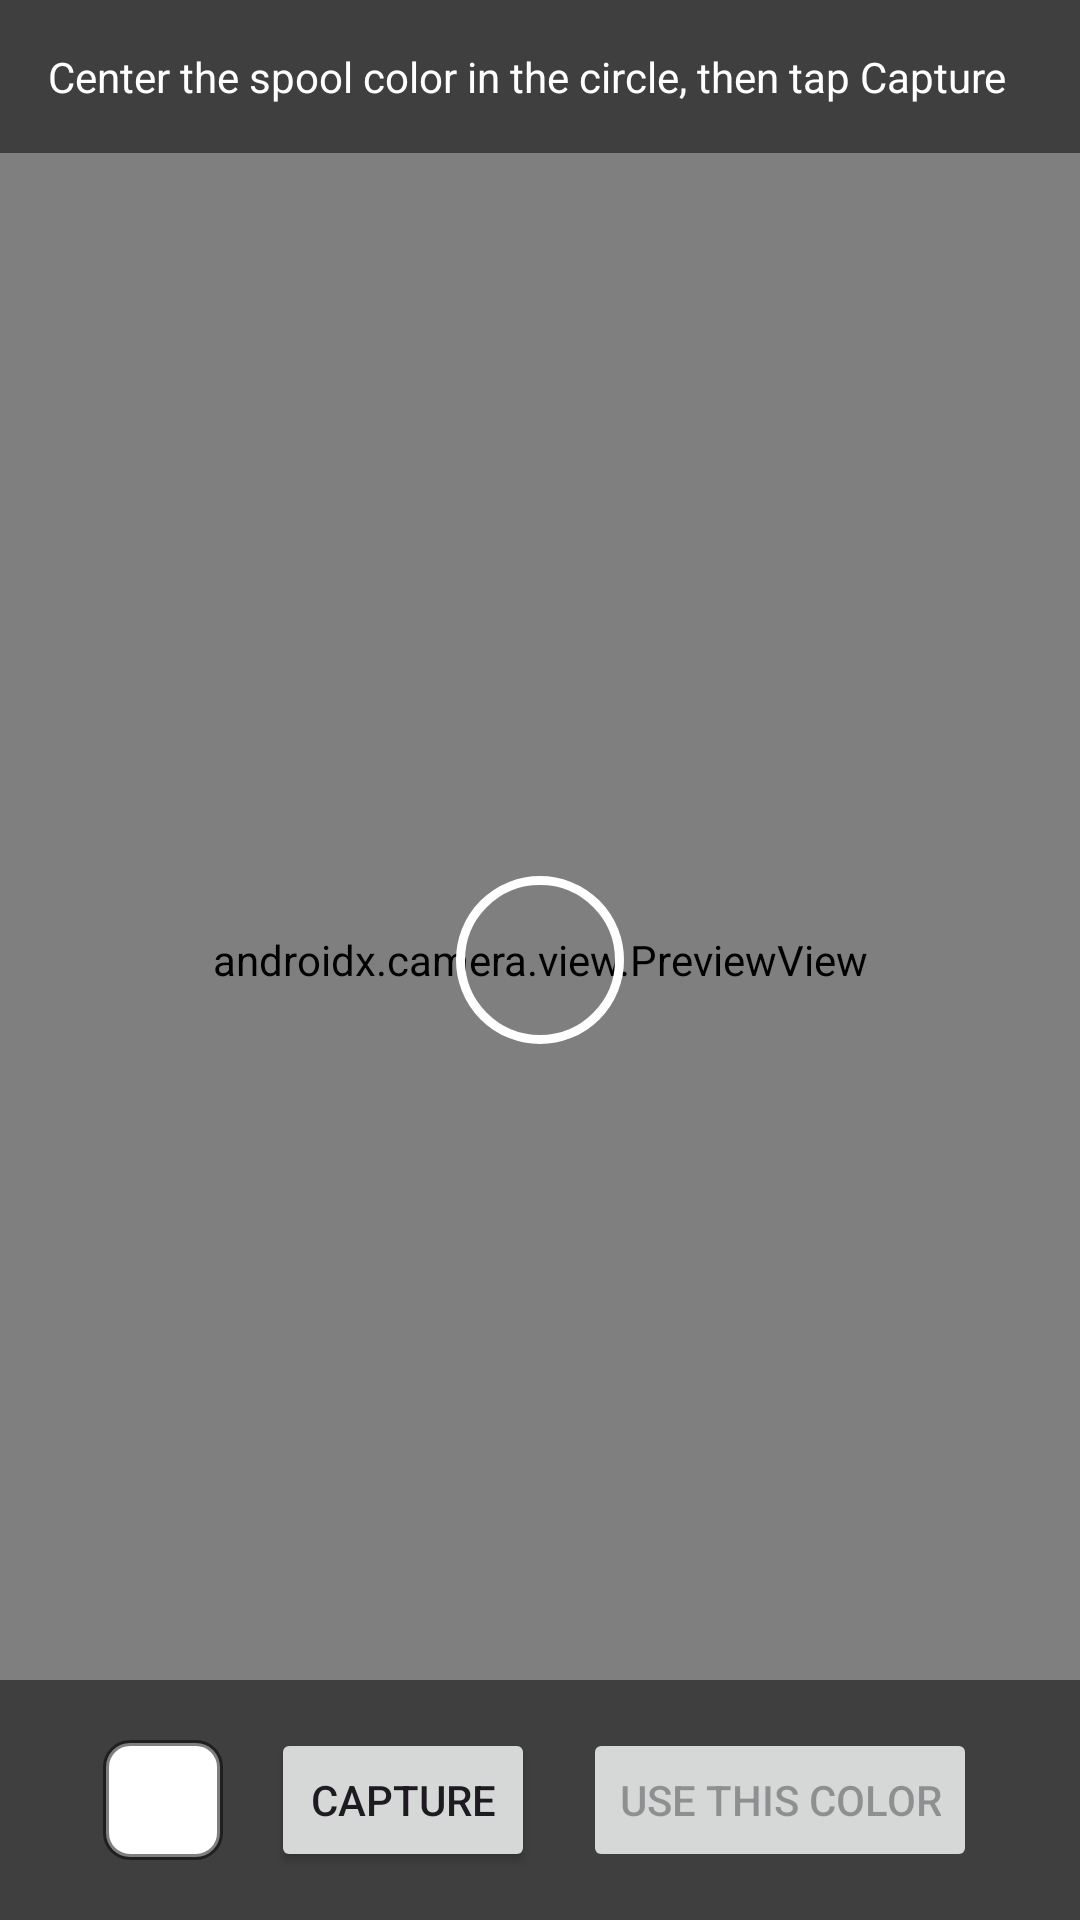

Screen size 1080×1920. Icon name, then its box in pixels as (x1, y1, x2, y2):
reticle: (456, 876, 624, 1044)
